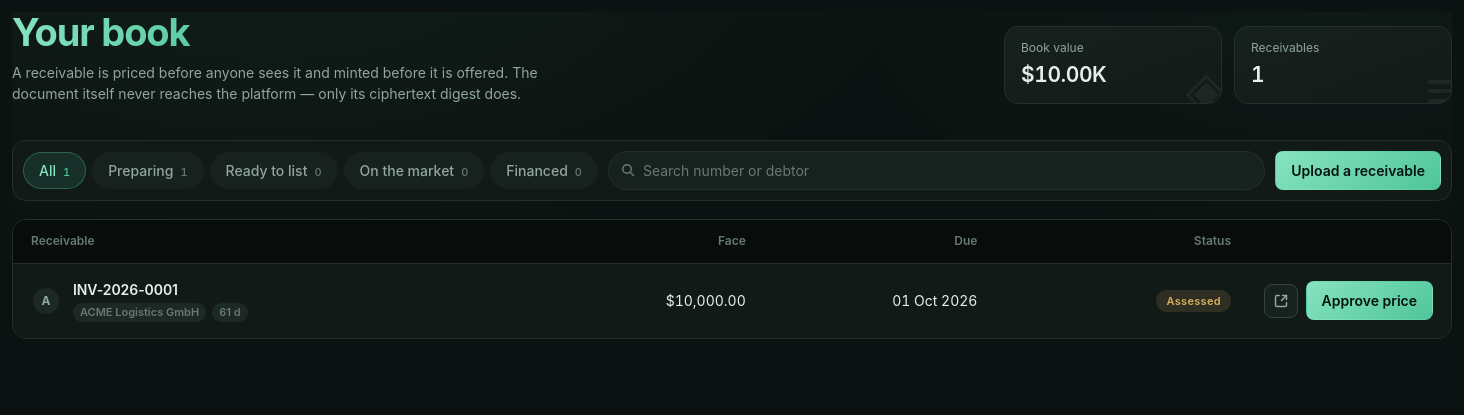
it: the issuer's book › shows why an action was refused
The width and height of the screenshot is (1464, 415).
Click the button "Approve price": [1369, 300] box [1306,281,1433,320]
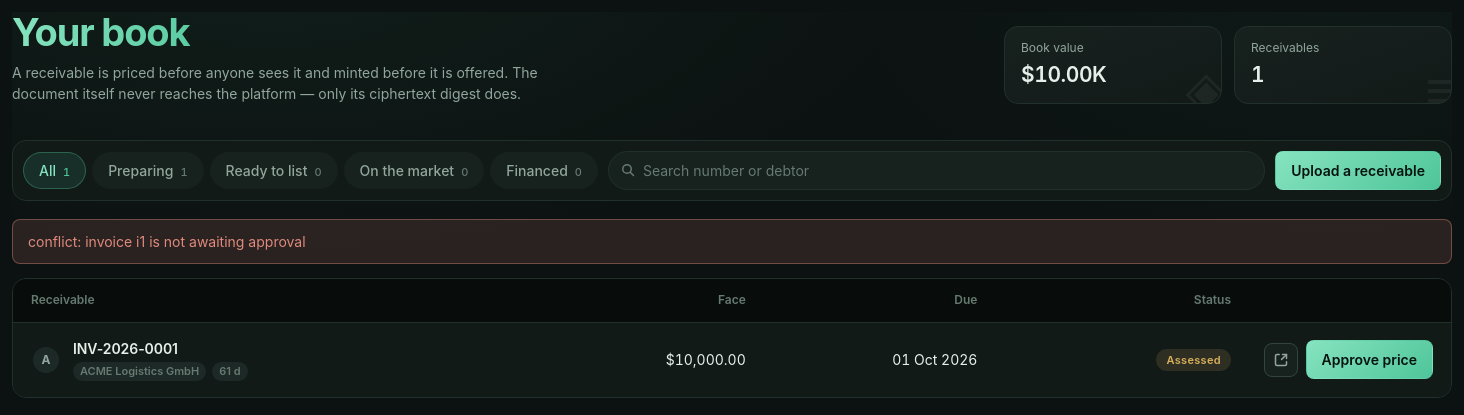
expect the message shows "not awaiting approval": met, box [28,232,306,250]
